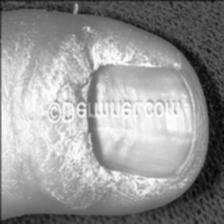Toxin: (26, 34, 102, 212)
